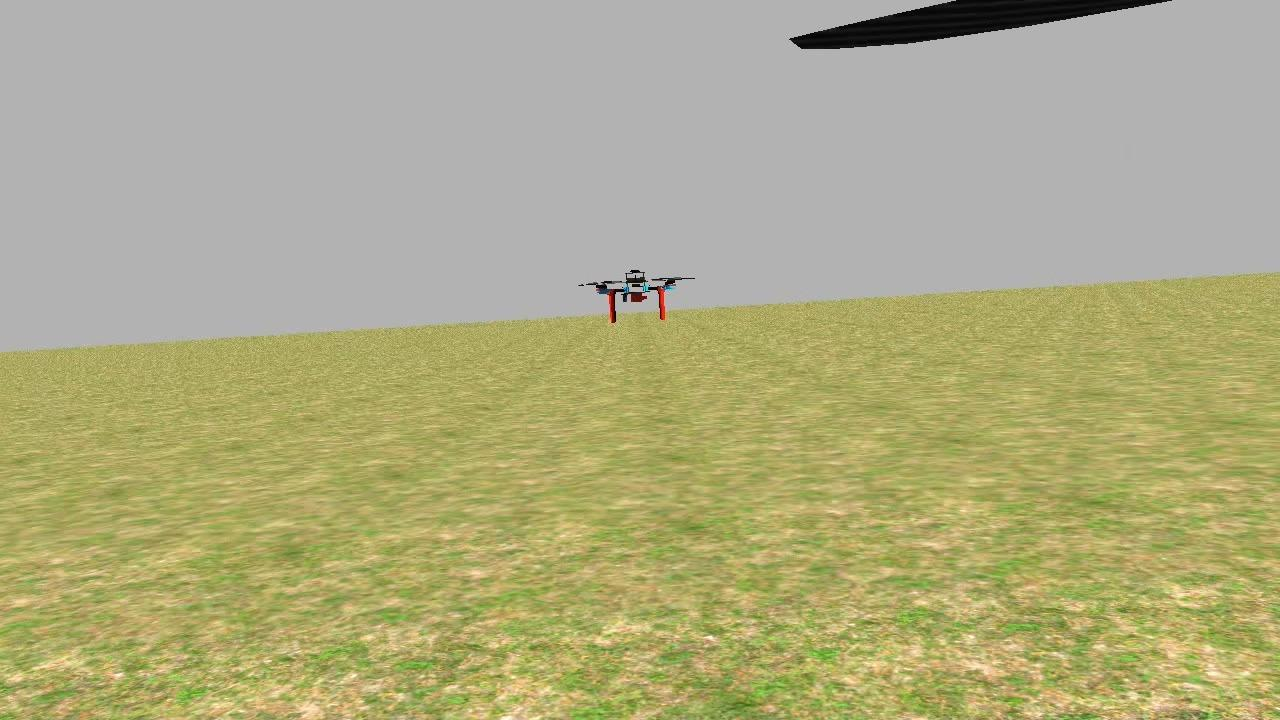UAV: (580, 262, 690, 334)
